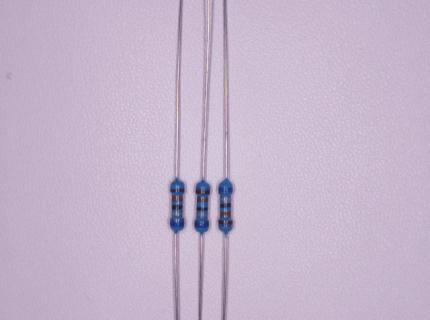Black band: (220, 203, 231, 208), (172, 205, 182, 210), (197, 207, 208, 211)
Blue band: (170, 221, 184, 227), (195, 222, 208, 228), (219, 188, 233, 192)
Brown band: (219, 220, 233, 225), (170, 189, 184, 193), (196, 190, 210, 194)
Grey band: (196, 213, 207, 217), (172, 212, 182, 216), (220, 198, 231, 201)
Orange band: (172, 196, 183, 202), (221, 212, 231, 217), (197, 198, 208, 202)
